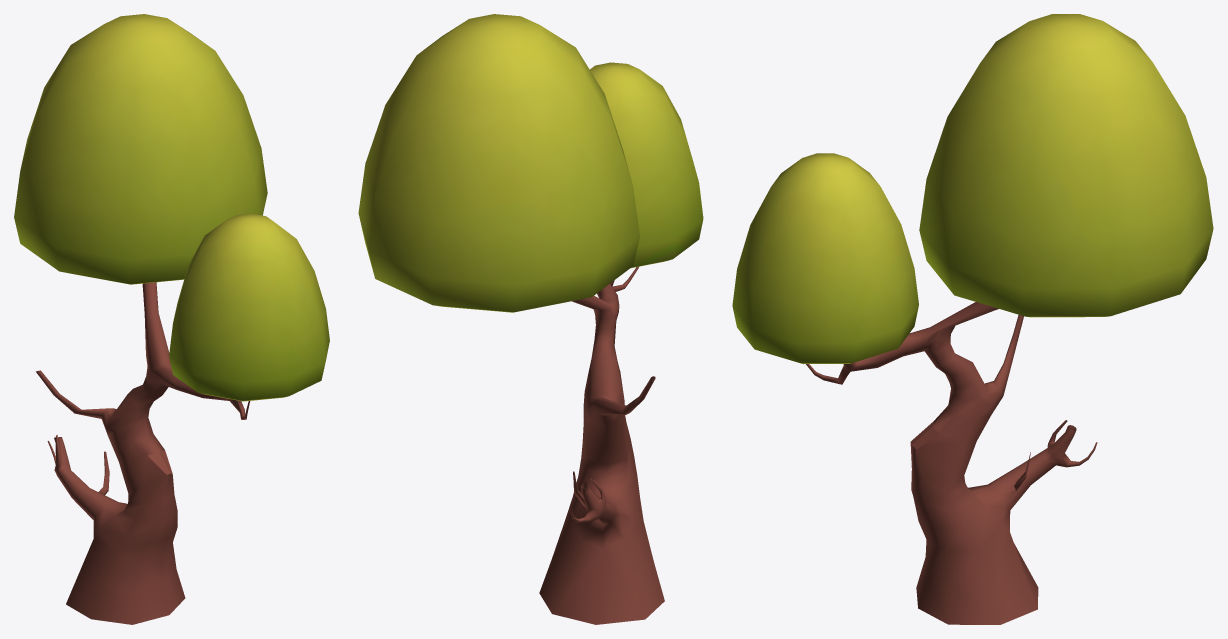
Rendered from SM_Tree_40.fbx.
3 renders of one model, left to right at view 1: azimuth 30°, elevation 25°; view 2: azimuth 150°, elevation 25°; view 3: azimuth 270°, elevation 25°, orthographic. The views are drawn at different scales.
Visible parts, largest first — view 1: SM_Tree_40; view 2: SM_Tree_40; view 3: SM_Tree_40.
Part boxes in pixels (left/top/right/bottom): SM_Tree_40: left=14, top=14, right=329, bottom=624; SM_Tree_40: left=358, top=14, right=703, bottom=624; SM_Tree_40: left=732, top=14, right=1213, bottom=624.
Bounding box in the file's own units: 567 × 1255 × 905.
